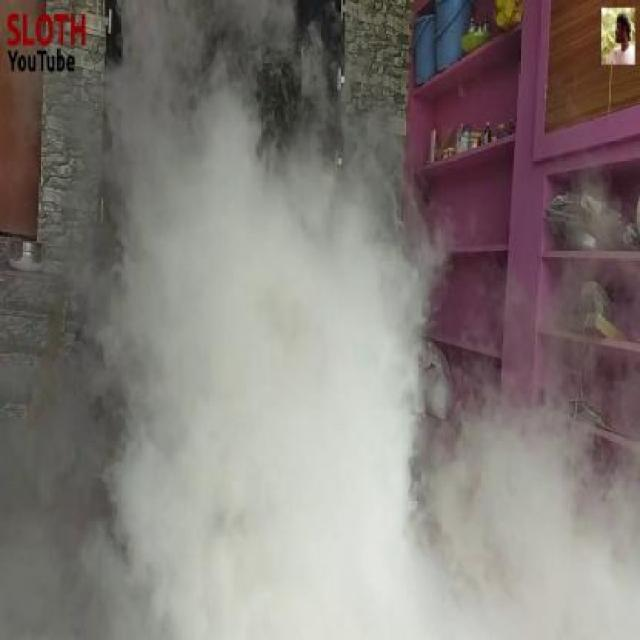smoke: (97, 12, 430, 640), (446, 380, 626, 640)
